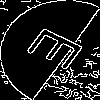E: (25, 25, 95, 78)
